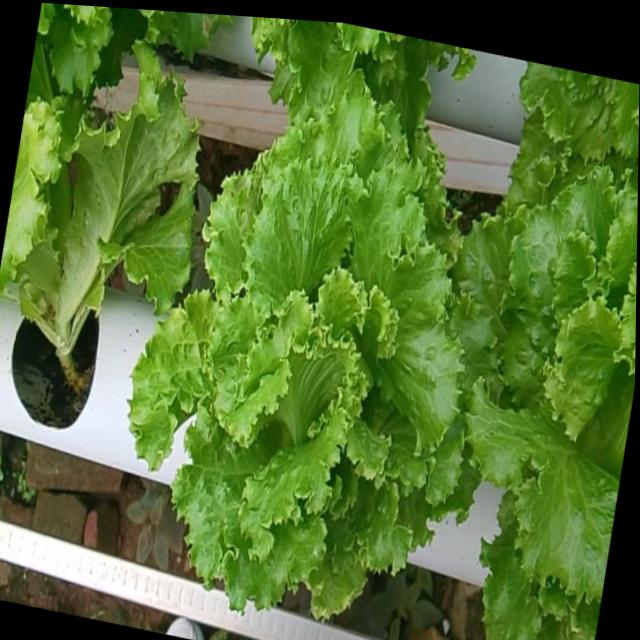Mature: (121, 105, 454, 627), (443, 177, 637, 625)
